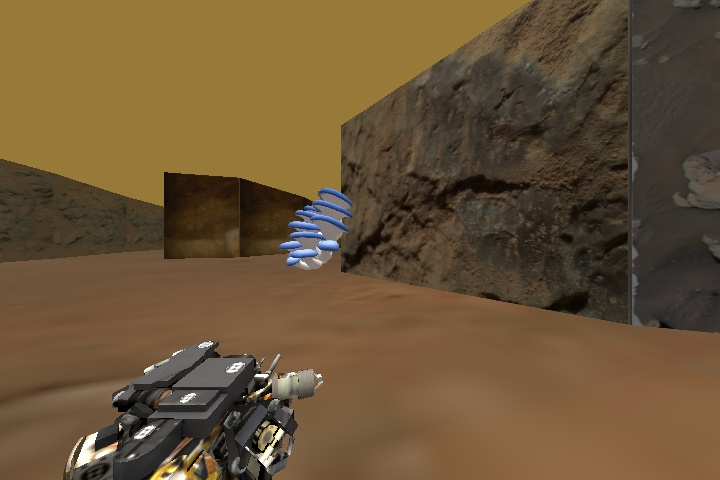mushroom: (279, 187, 353, 272)
